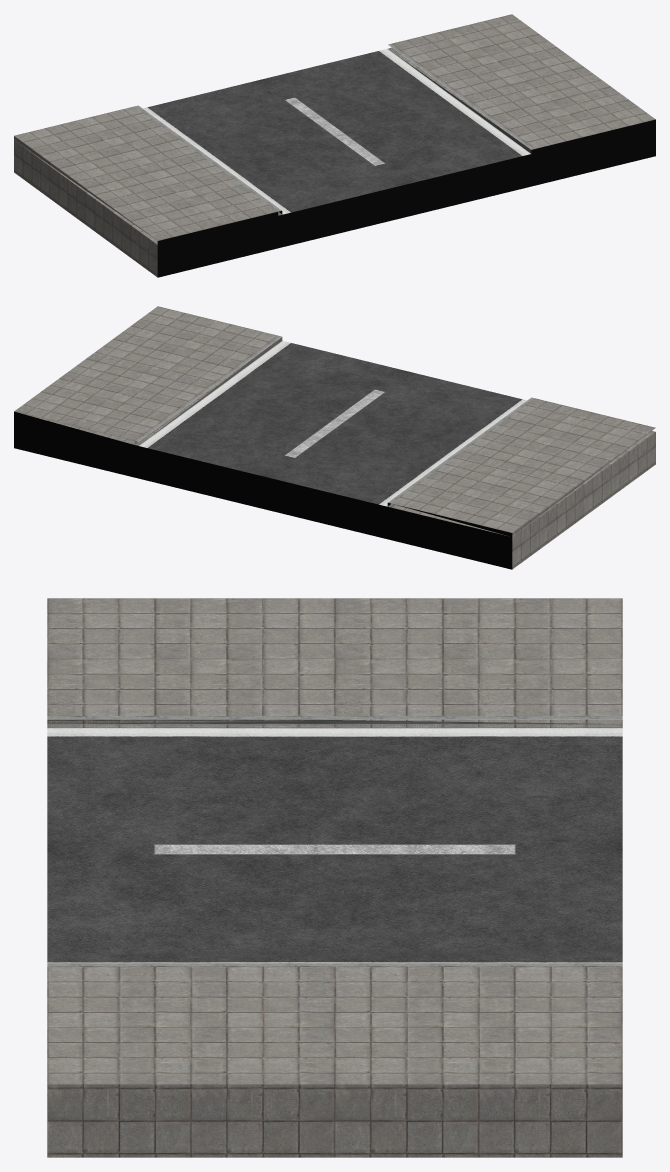
File: SingleStraightShort2_1.fbx
3 renders of one model, top to bottom at view 1: azimuth 30°, elevation 25°; view 2: azimuth 150°, elevation 25°; view 3: azimuth 270°, elevation 25°, orthographic. The views are drawn at different scales.
Parts seen in each view (by area): view 1: materialC150, materialA150, materialB150, materialD150, materialE150; view 2: materialC150, materialA150, materialB150, materialD150, materialE150; view 3: materialC150, materialA150, materialD150, materialE150.
Part boxes in pixels (x1,y1,x2,y2): materialC150: (14, 14, 655, 277); materialA150: (143, 49, 530, 214); materialB150: (157, 119, 655, 277); materialD150: (135, 43, 534, 211); materialE150: (278, 48, 531, 215); materialC150: (14, 306, 655, 569); materialA150: (139, 341, 526, 506); materialB150: (14, 411, 512, 569); materialD150: (135, 335, 534, 503); materialE150: (135, 337, 394, 507); materialC150: (47, 598, 622, 1157); materialA150: (47, 728, 622, 962); materialD150: (47, 716, 622, 966); materialE150: (47, 719, 622, 727).
Bounding box in the file's own units: 25.6 × 1.8 × 12.8.
